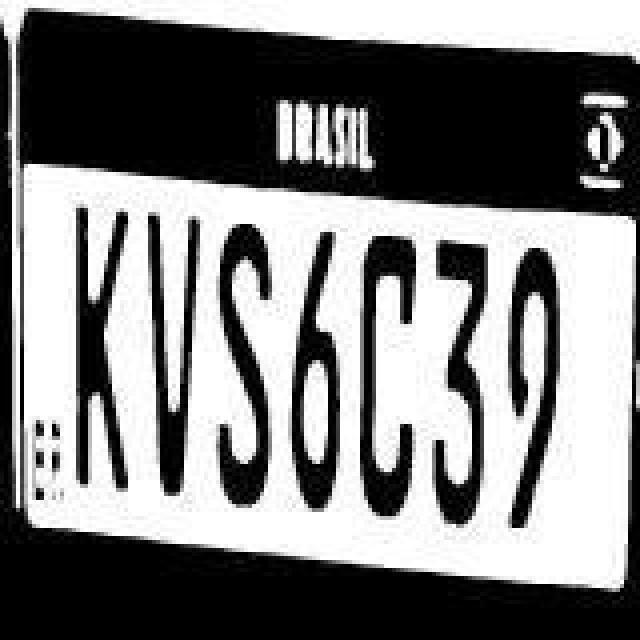3: (426, 226, 494, 542)
6: (284, 214, 356, 522)
9: (496, 228, 568, 540)
C: (360, 216, 424, 528)
K: (58, 198, 134, 506)
S: (208, 208, 280, 512)
V: (142, 202, 202, 518)
